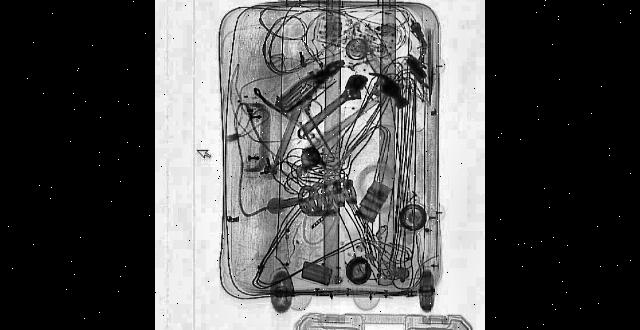Pliers: (279, 46, 345, 118)
Wrench: (294, 62, 370, 146)
